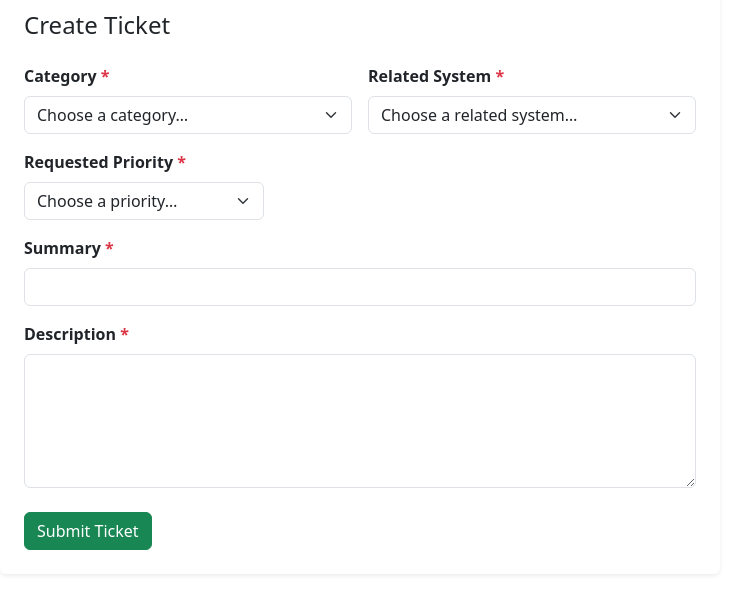
Test case: CreateTicket › disables the Submit button while the request is in flight (BR-19)
The image size is (735, 593).
In the field labelled "Summary *": (360, 287) [24,268,696,306], type "Valid summary text"
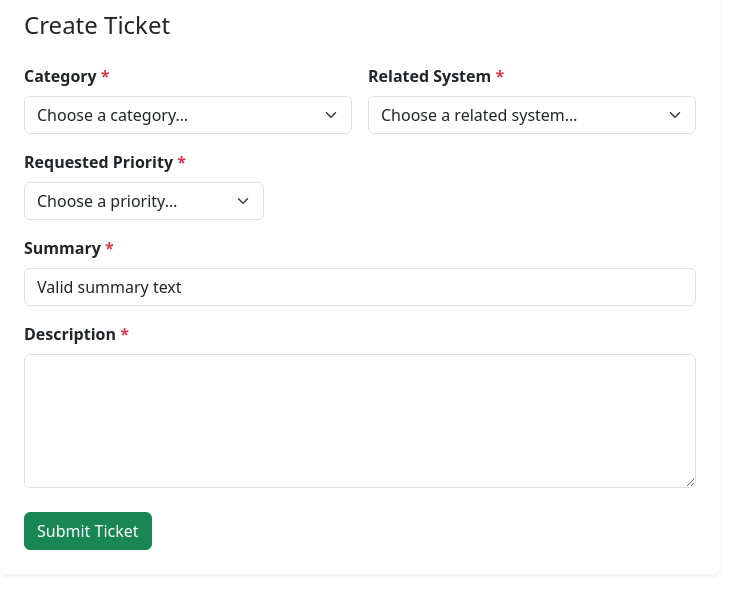
In the text box labelled "Description *": (360, 421) [24,354,696,488], type "A sufficiently long description."
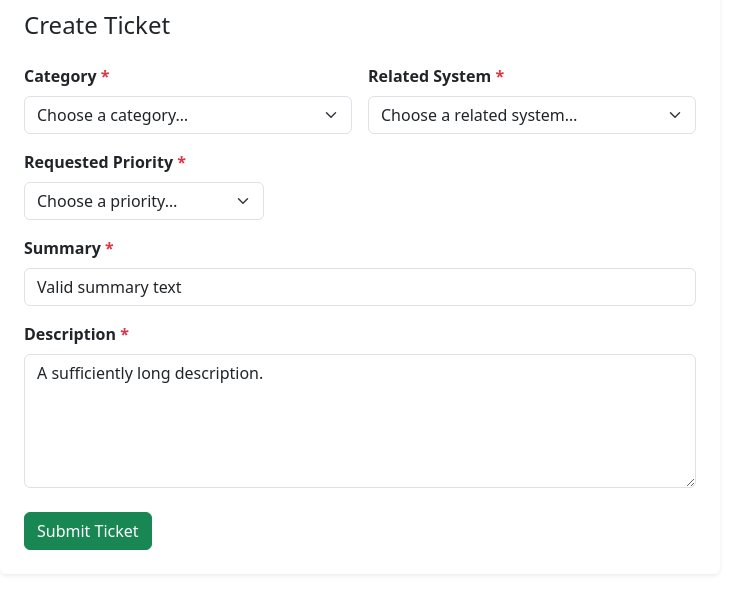
Select "Medium" in the dropdown labelled "Requested Priority *": (144, 201) [24,182,264,220]
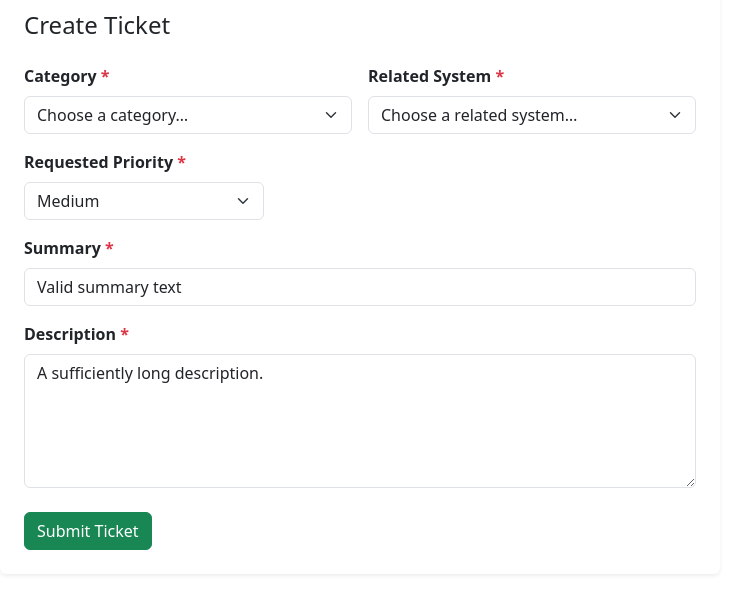
Select "Hardware" in the dropdown labelled "Category *": (188, 115) [24,96,352,134]
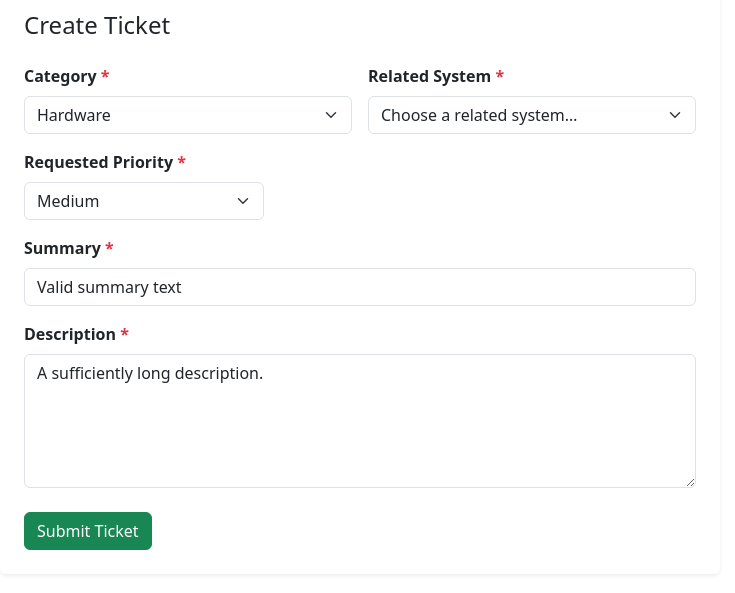
Select "VPN" in the dropdown labelled "Related System *": (532, 115) [368,96,696,134]
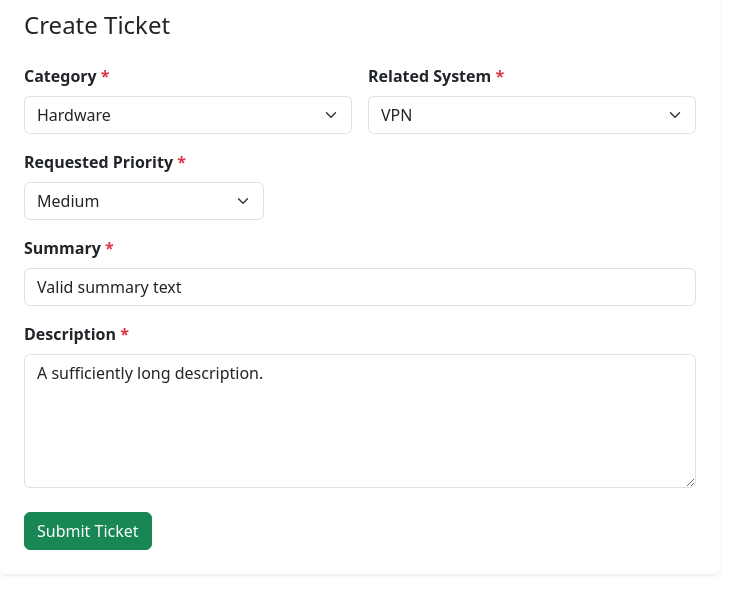
Click the button "Submit Ticket": (88, 531) [24,512,152,550]
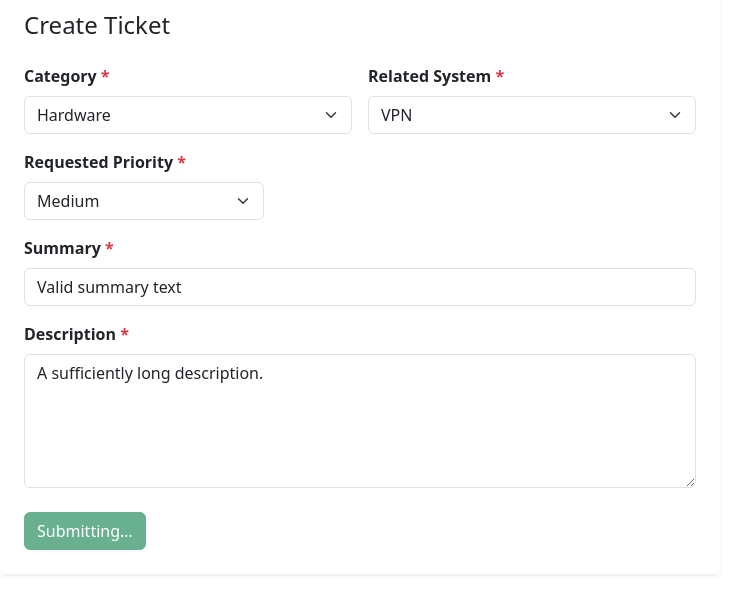
Now the button "Submitting…" is disabled, box [24,512,146,550]
